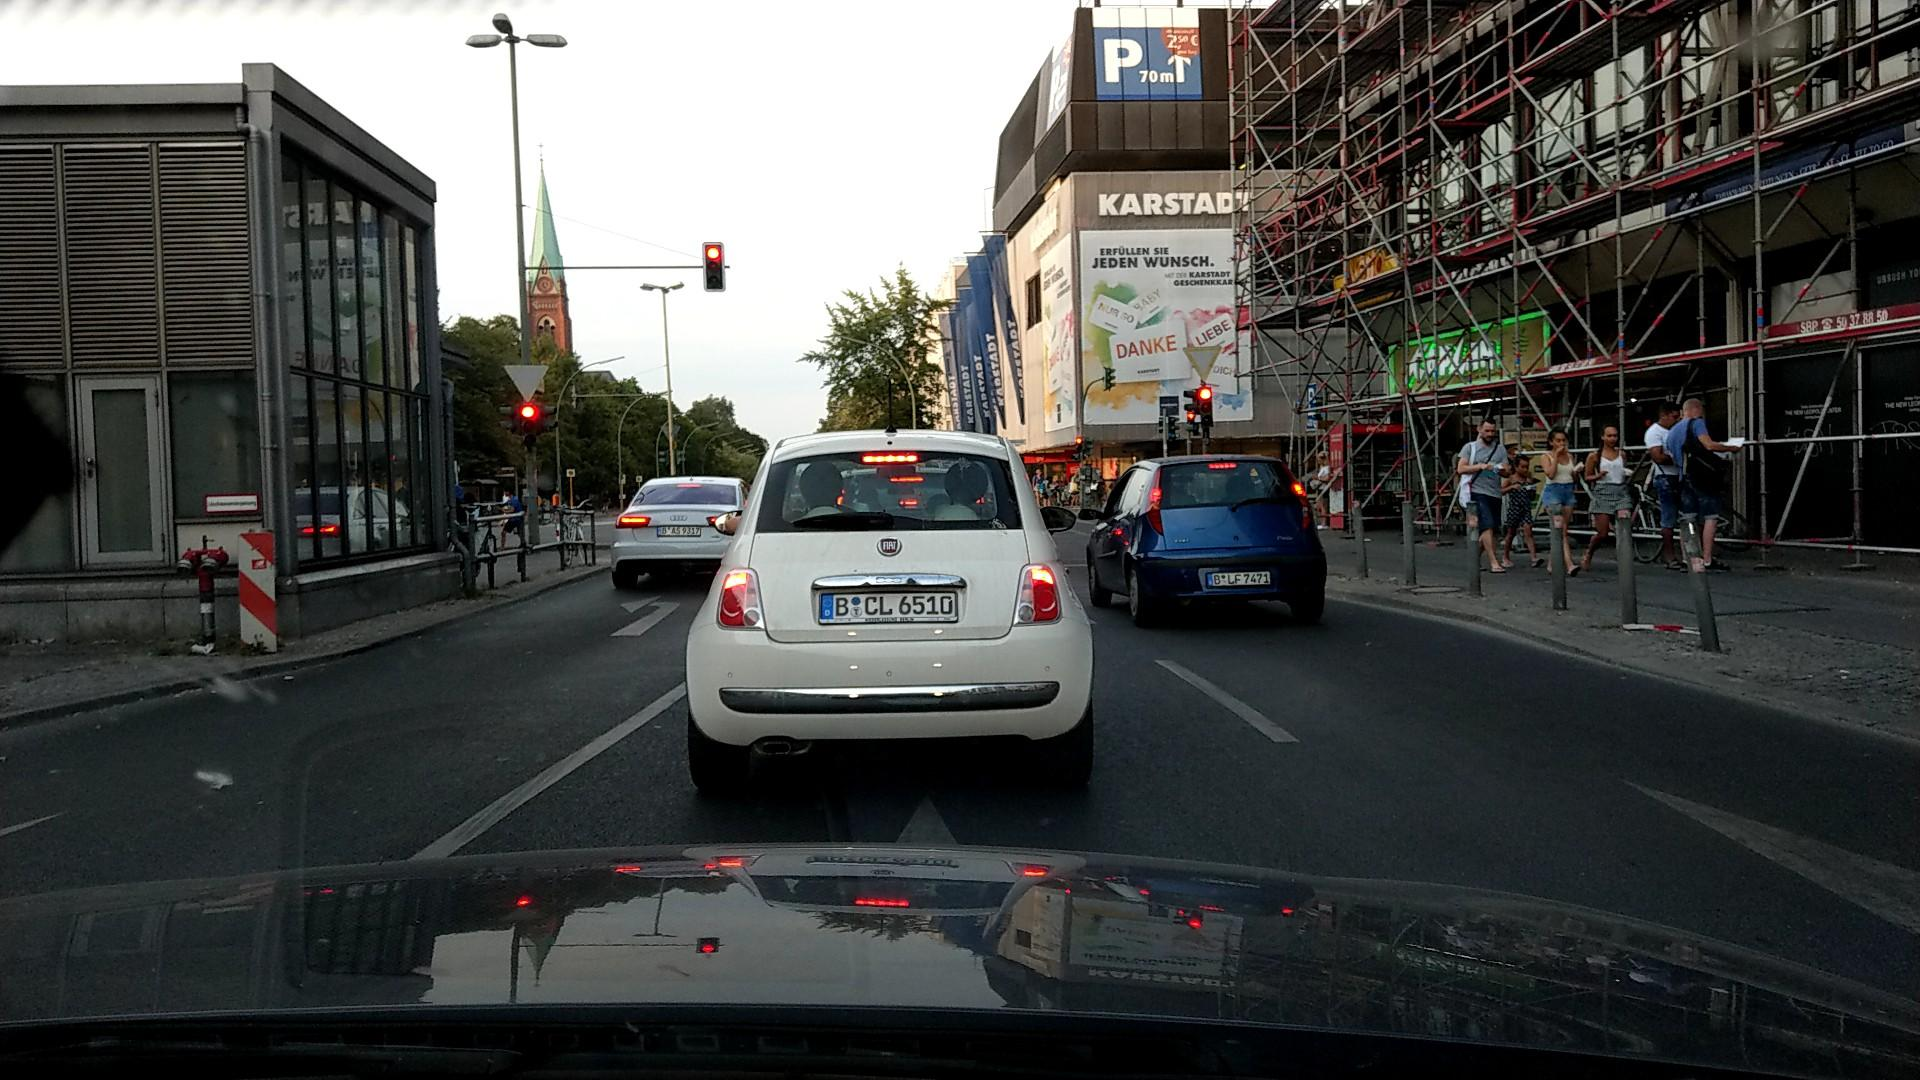Human face: (1659, 403, 1676, 425), (1479, 421, 1496, 443), (1550, 433, 1567, 452), (1517, 457, 1530, 476), (1603, 427, 1617, 446)
Vehicle registration plate: (818, 591, 959, 622), (1206, 572, 1271, 586), (657, 527, 701, 536)
